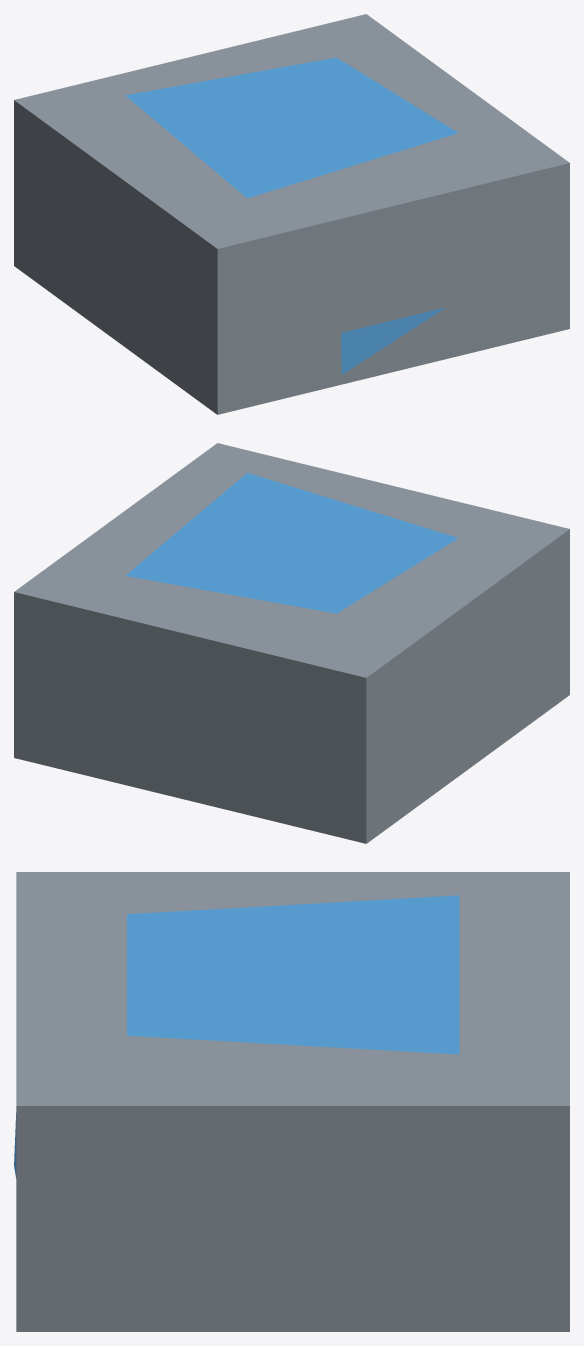
The model's file is AL_Airfield_LOD1.glb.
The picture shows the model from 3 angles, top to bottom: view 1: azimuth 30°, elevation 25°; view 2: azimuth 150°, elevation 25°; view 3: azimuth 270°, elevation 25°; orthographic projection. The views are drawn at different scales.
Parts seen in each view (by area): view 1: EntranceGate; view 2: EntranceGate; view 3: EntranceGate.
Boxes of the visible parts, x1,y1,x2,y2 form: EntranceGate: (14, 14, 569, 414); EntranceGate: (14, 443, 569, 843); EntranceGate: (14, 872, 569, 1331).
Bounding box in the file's own units: 800 × 398 × 803.
